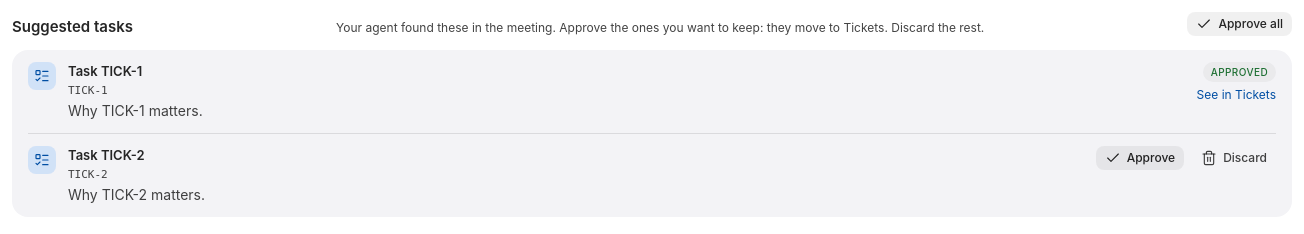
Scenario: MeetingTasks › Approve all approves the rest, then hides and says all are handled
Click the button "Approve all": (1240, 24) x1=1187 y1=12 x2=1292 y2=36
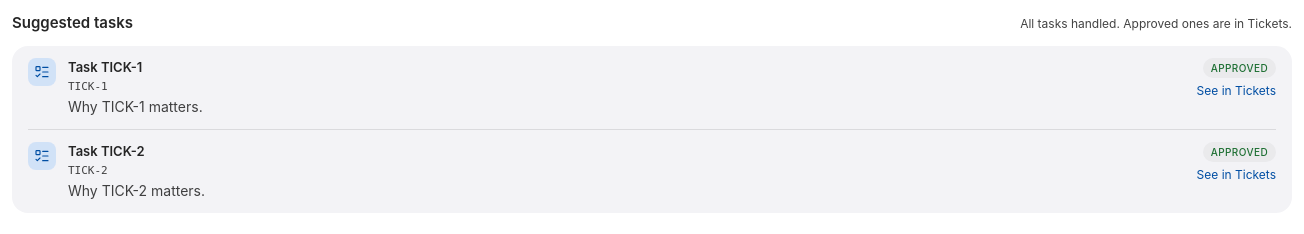
Check: the text "All tasks handled. Approved ones are in Tickets." is shown, box x1=1020 y1=15 x2=1292 y2=32
Check: the button "Approve all" is gone
Check: the text "Approved" is shown 2 times, box x1=1203 y1=58 x2=1276 y2=78; x1=1203 y1=142 x2=1276 y2=162
